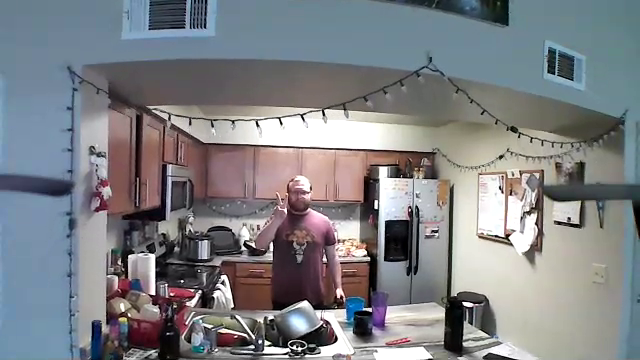peace: (269, 186, 292, 223)
